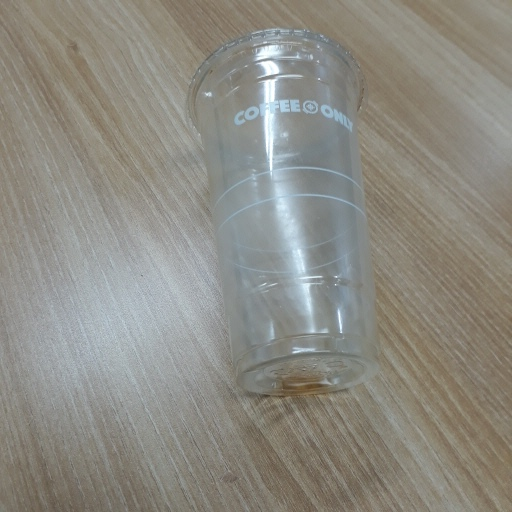Plastic_2: (185, 27, 383, 398)
